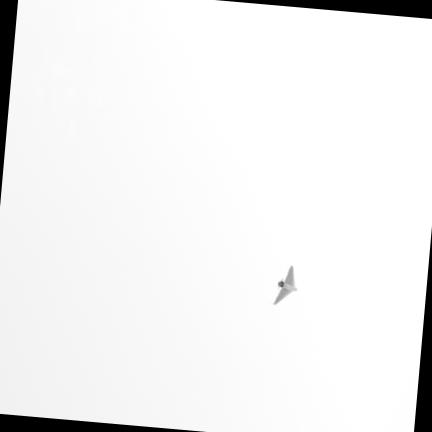Shahed: (275, 266, 296, 303)
